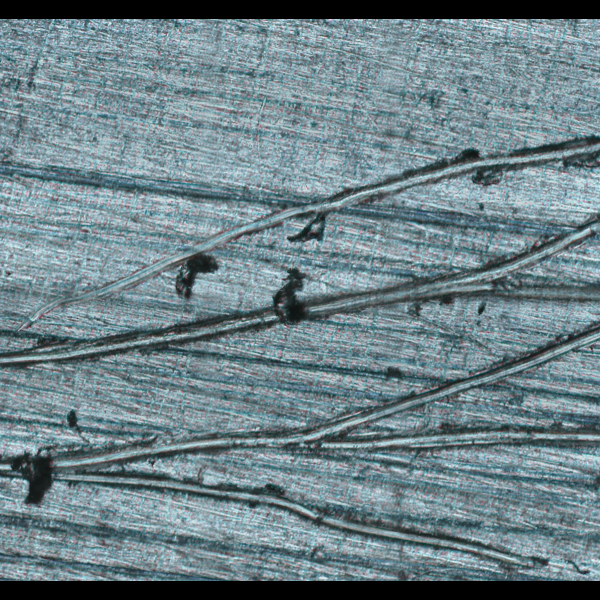d: (0, 111, 599, 576)
